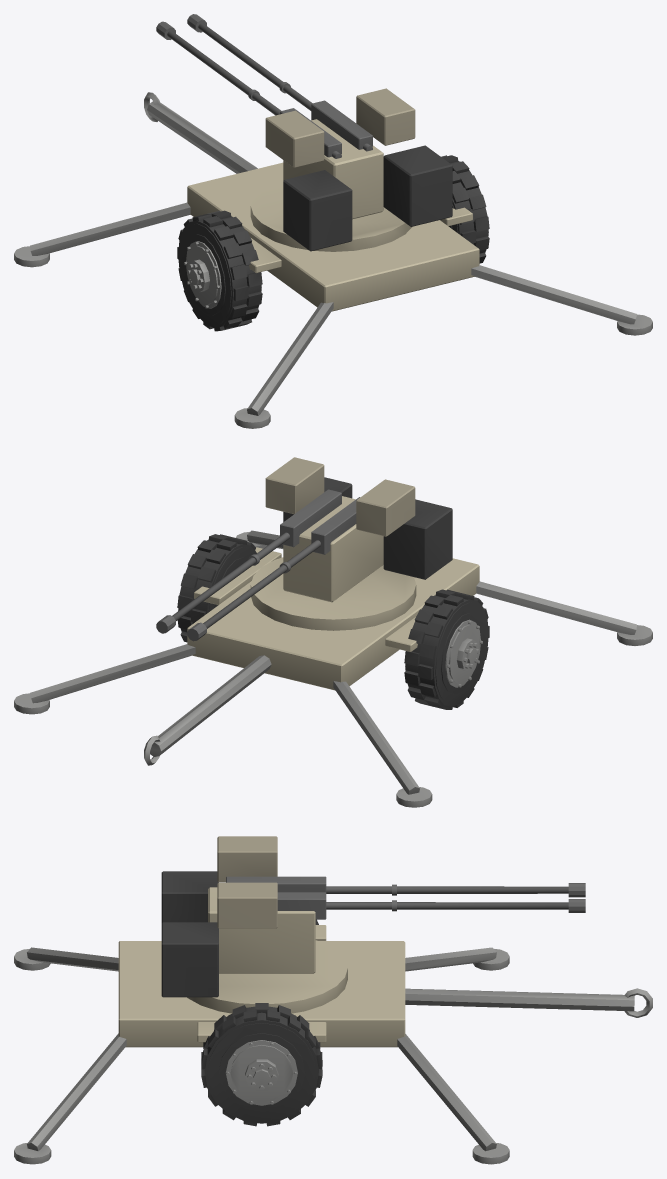
Rendered from aagun_rus.glb.
3 renders of one model, top to bottom at view 1: azimuth 30°, elevation 25°; view 2: azimuth 150°, elevation 25°; view 3: azimuth 270°, elevation 25°, orthographic. The views are drawn at different scales.
Visible parts, largest first — view 1: body, turret, barrel, wheel_0, wheel_1; view 2: body, turret, barrel, wheel_0, wheel_1; view 3: body, turret, barrel, wheel_1.
Boxes of the visible parts, bbox=[...] form: body: bbox=[14, 92, 652, 428]; turret: bbox=[250, 119, 452, 251]; barrel: bbox=[156, 14, 415, 167]; wheel_0: bbox=[177, 210, 262, 331]; wheel_1: bbox=[441, 155, 489, 263]; body: bbox=[14, 530, 652, 807]; turret: bbox=[250, 477, 452, 630]; barrel: bbox=[156, 457, 415, 641]; wheel_0: bbox=[404, 589, 489, 709]; wheel_1: bbox=[177, 534, 256, 642]; body: bbox=[14, 925, 652, 1164]; turret: bbox=[161, 871, 347, 1013]; barrel: bbox=[217, 836, 585, 928]; wheel_1: bbox=[201, 1003, 322, 1126].
Size of the model in its own units: 3.46 by 1.5 by 4.46.
